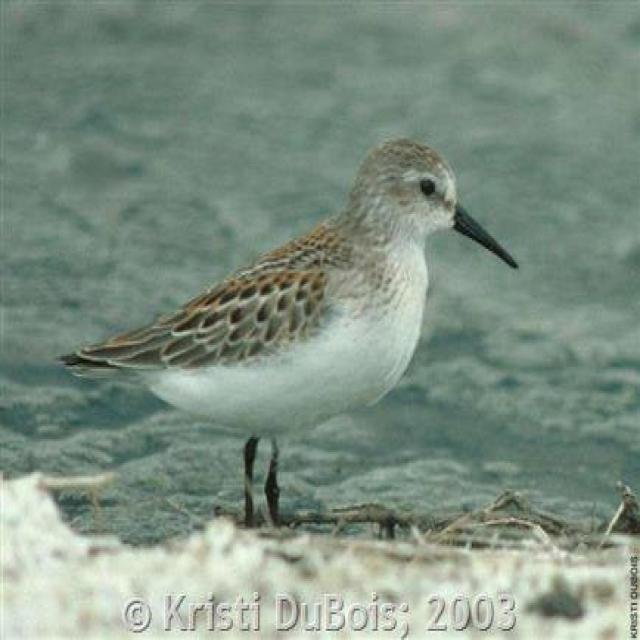sandpiper: (59, 138, 518, 524)
